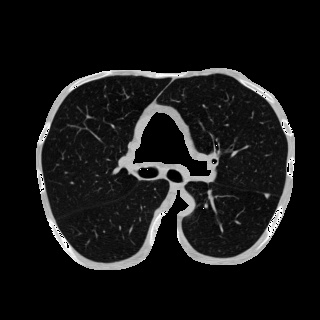PN: (264, 193, 270, 199)
